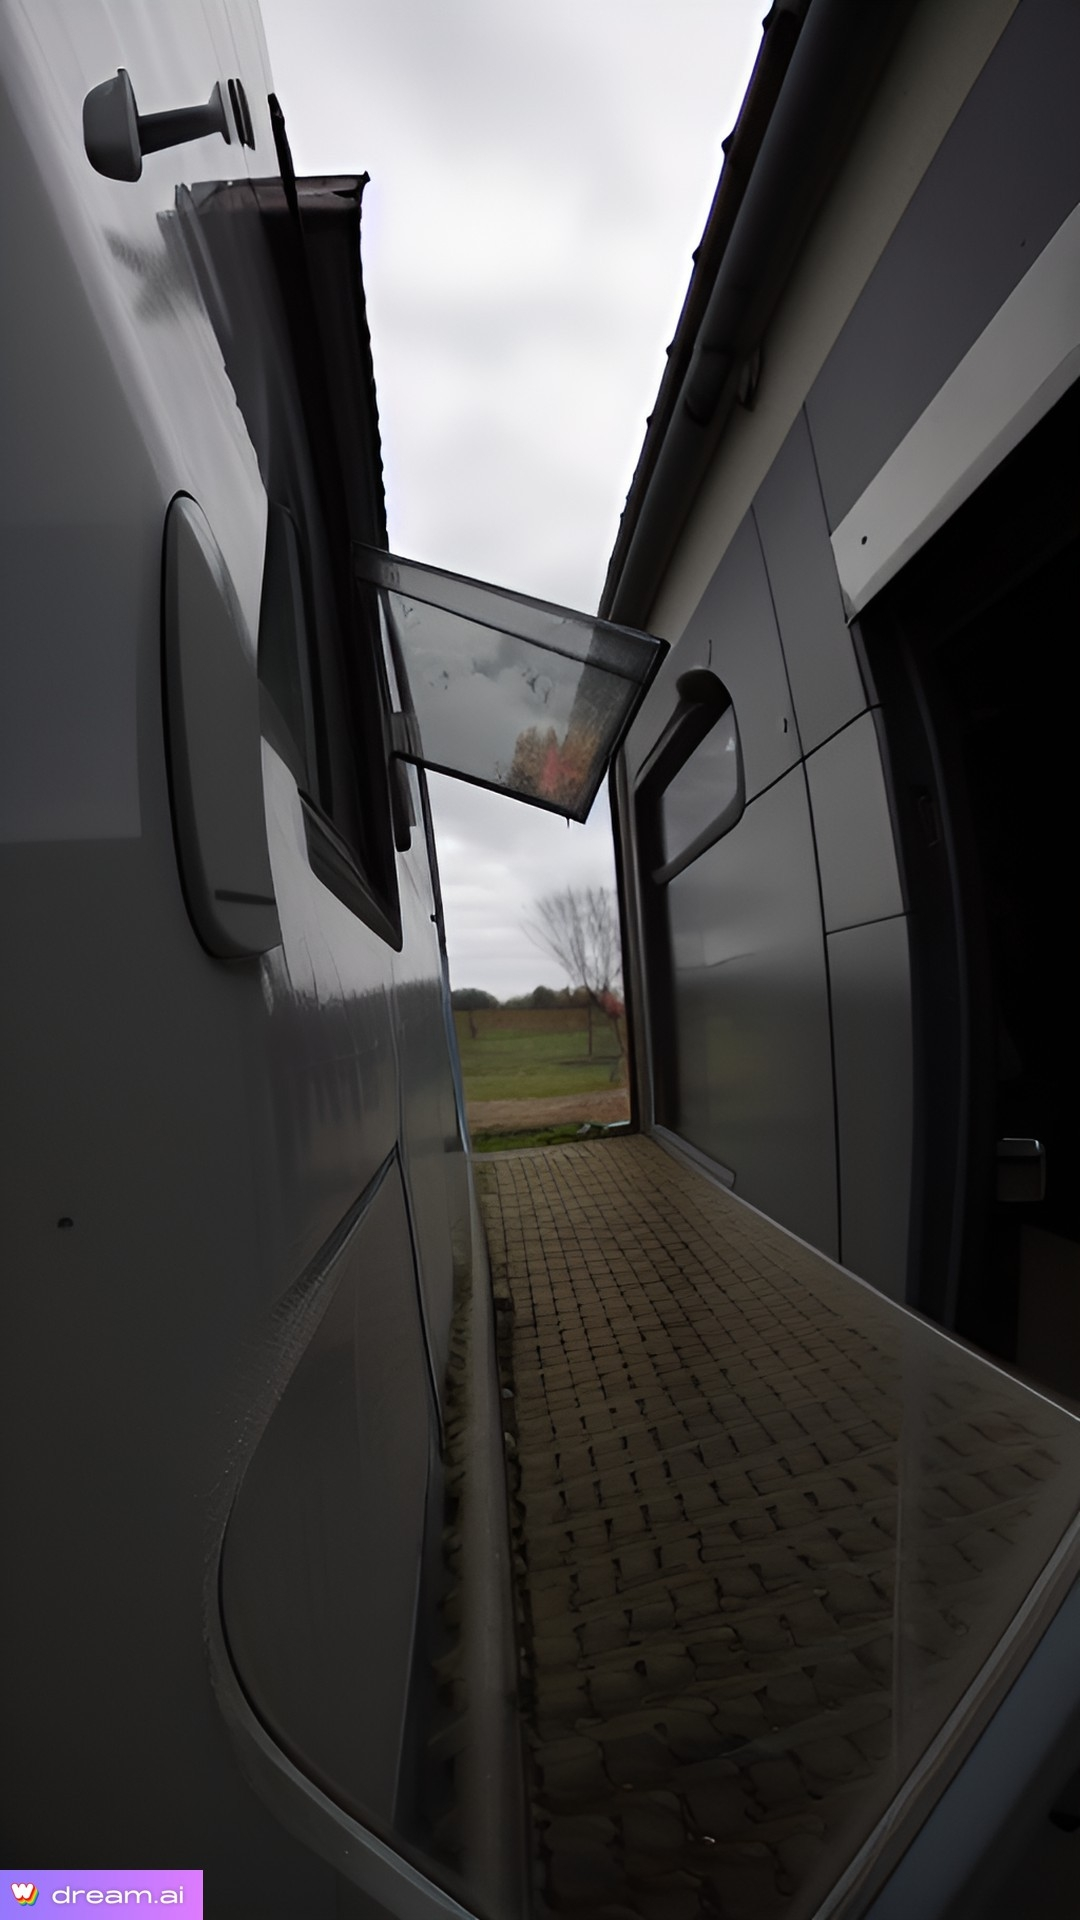window_back: (316, 495, 676, 858)
